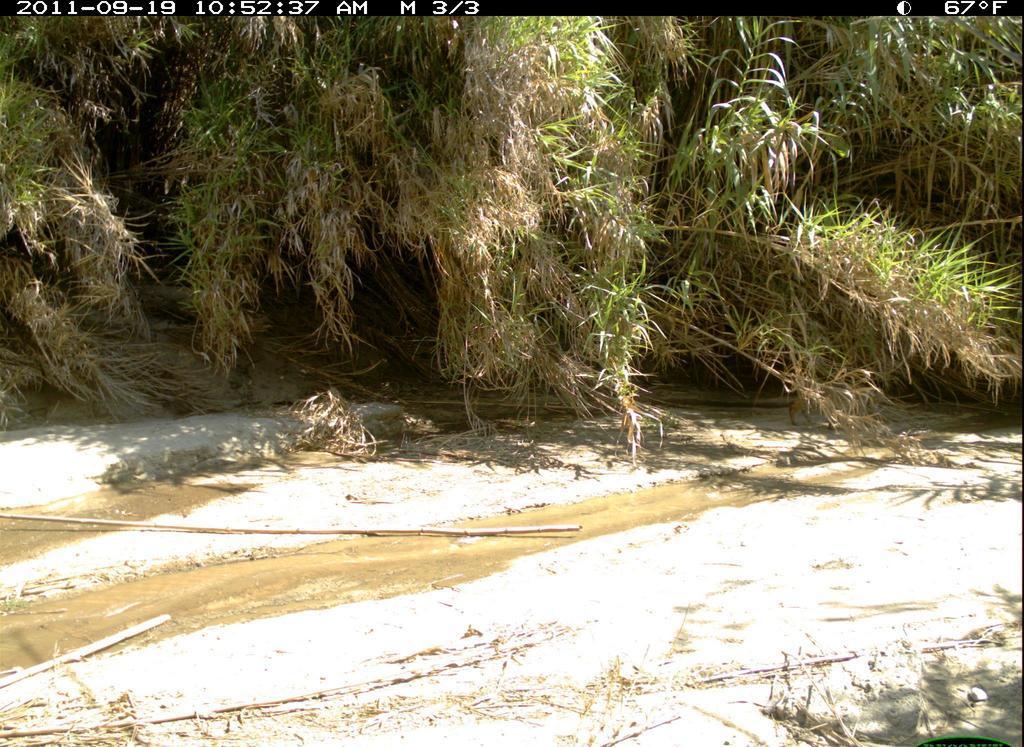bobcat: (772, 350, 890, 447)
